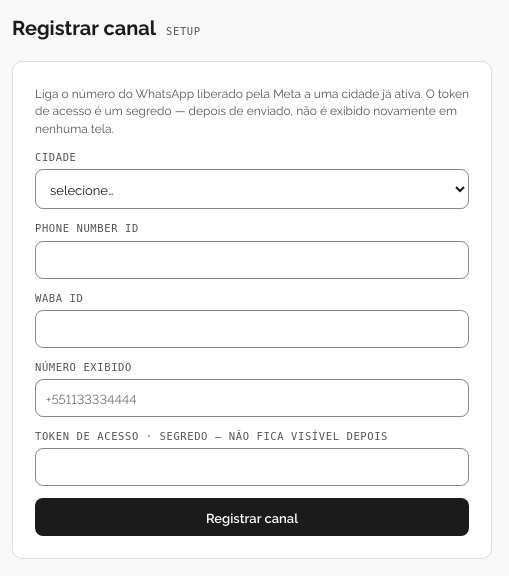
Test: RegisterChannel › sends the typed values to registerCityChannel for the chosen city and shows success
Select "Curitiba · PR" in the dropdown labelled "Cidade": (252, 189) [35,169,469,209]
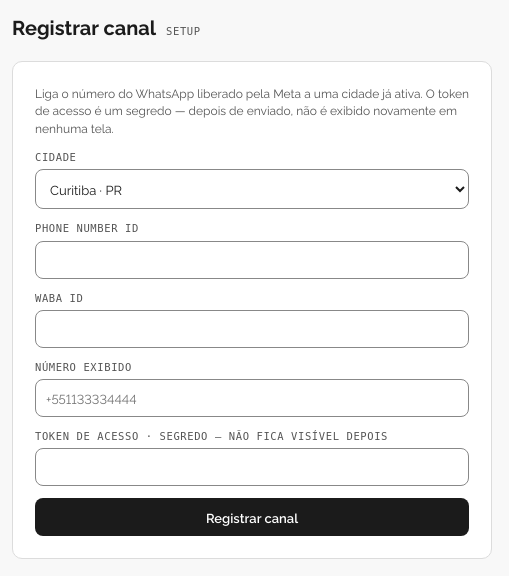
In the field labelled "Phone number ID": (252, 260) [35,241,469,279], type "111222333"
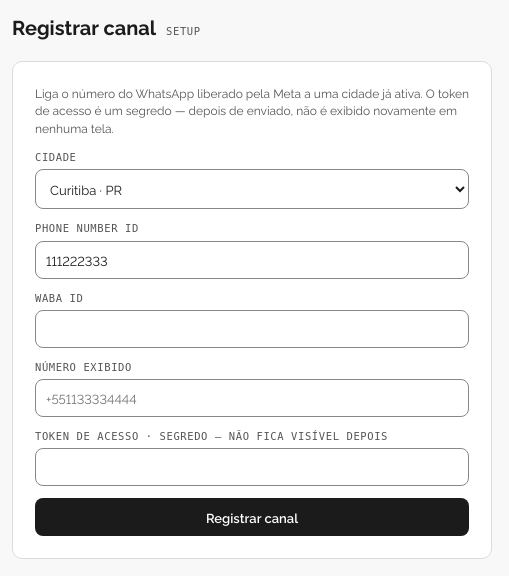
In the field labelled "WABA ID": (252, 329) [35,310,469,348], type "waba-9"
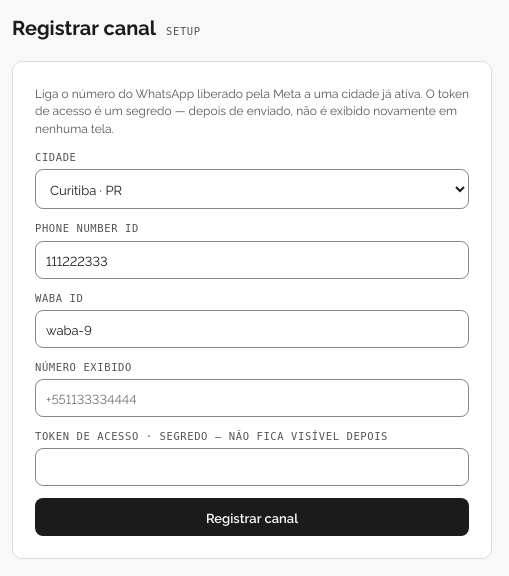
In the field labelled "Número exibido": (252, 398) [35,379,469,417], type "+554133334444"
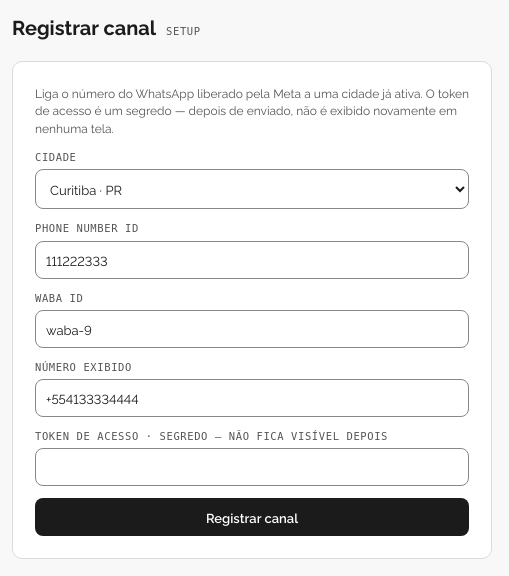
In the password field labelled "Token de acesso · segredo — não fica visível depois": (252, 467) [35,448,469,486], type "EAAG-secret-token-123"
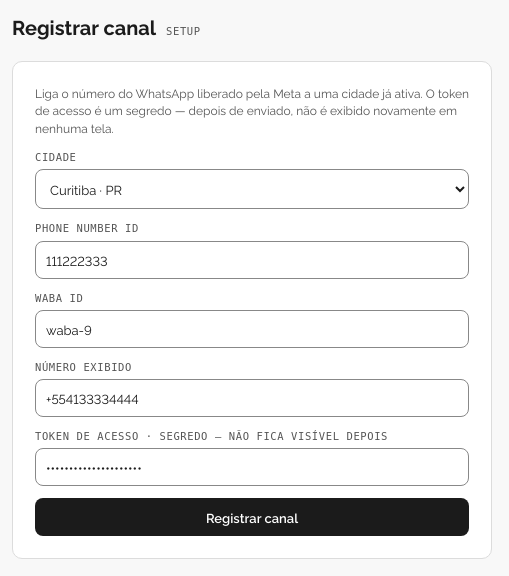
Click the button "Registrar canal": (252, 517) [35,498,469,536]
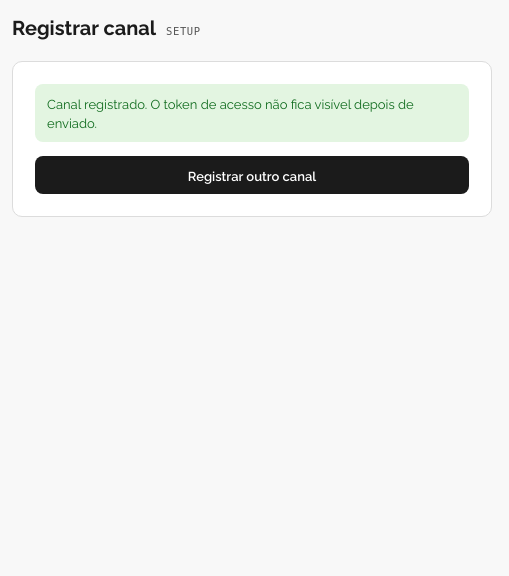
Expected: the text "Canal registrado" is shown, [47,94,414,131]
